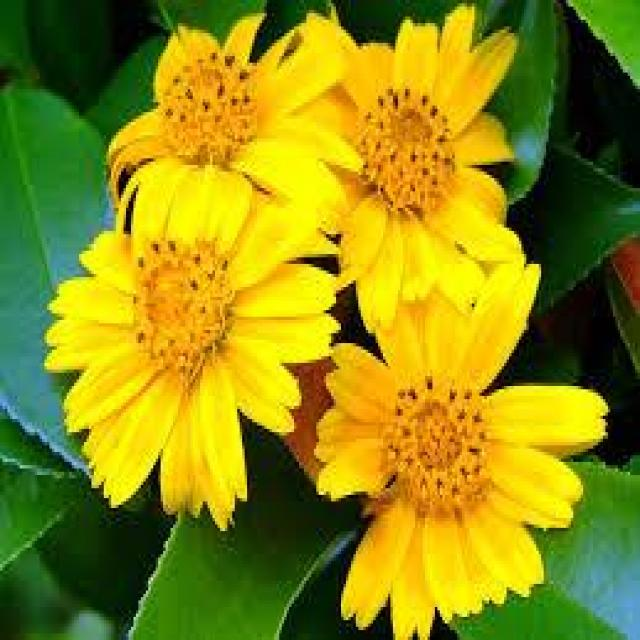organic waste: (304, 247, 623, 627), (48, 168, 340, 531), (312, 18, 532, 309), (109, 13, 341, 238)
